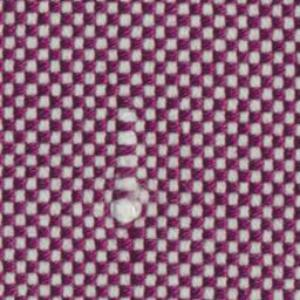defect: (110, 94, 145, 225)
